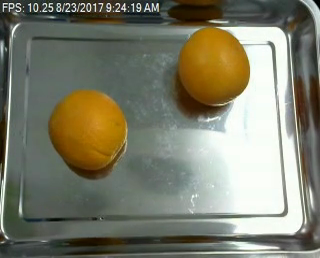Orange: (48, 89, 127, 169), (178, 26, 249, 105)
